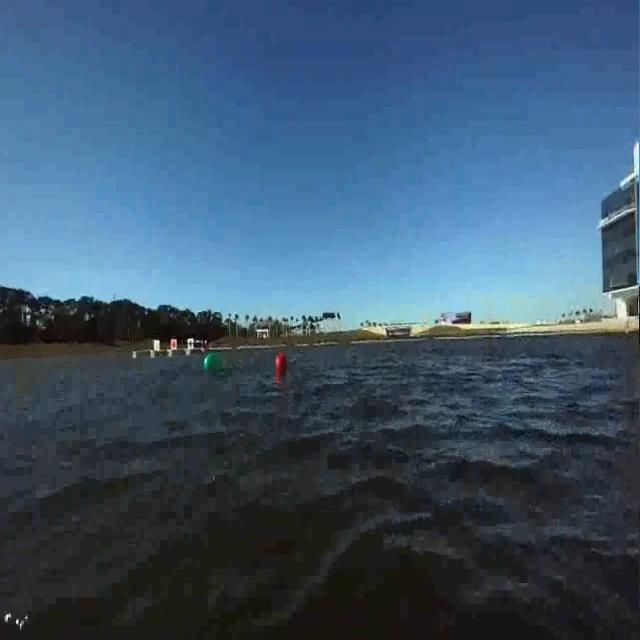green-buoy: (204, 352, 224, 372)
red-buoy: (277, 353, 289, 372)
